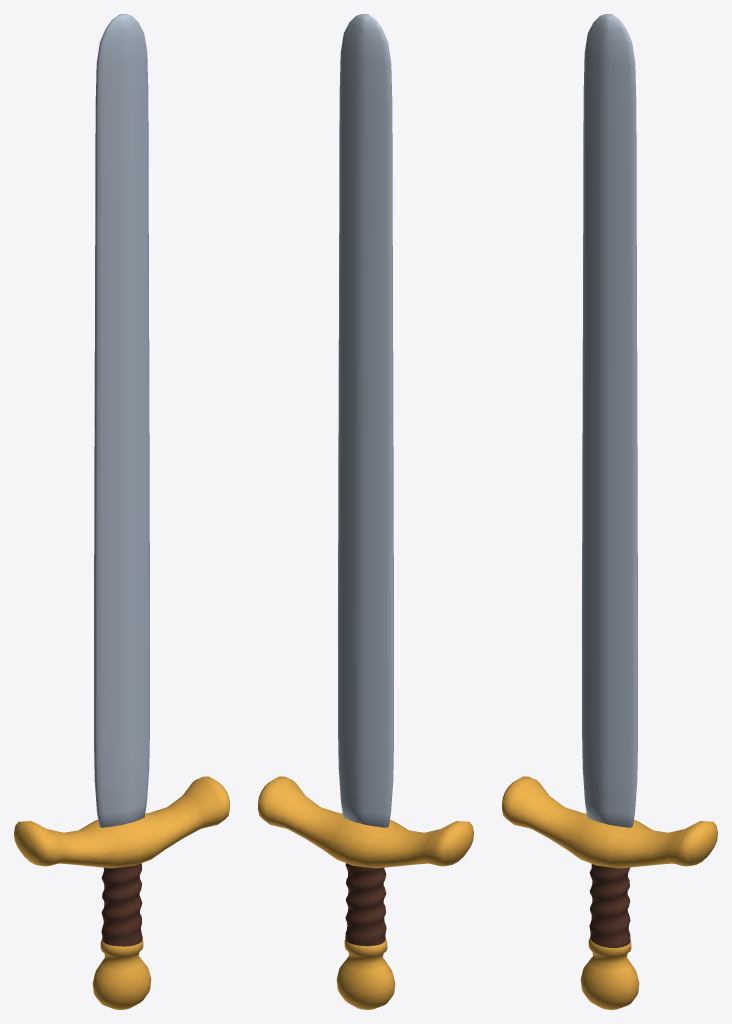
Rendered from arma-espada.glb.
3 renders of one model, left to right at view 1: azimuth 30°, elevation 25°; view 2: azimuth 150°, elevation 25°; view 3: azimuth 330°, elevation 25°, orthographic.
Parts seen in each view (by area): view 1: arma-espada; view 2: arma-espada; view 3: arma-espada.
Part boxes in pixels (x1=…): arma-espada: x1=14, y1=14, x2=229, y2=1009; arma-espada: x1=258, y1=14, x2=473, y2=1009; arma-espada: x1=502, y1=14, x2=717, y2=1009.
Size of the model in its own units: 0.22 by 1.04 by 0.0708.
